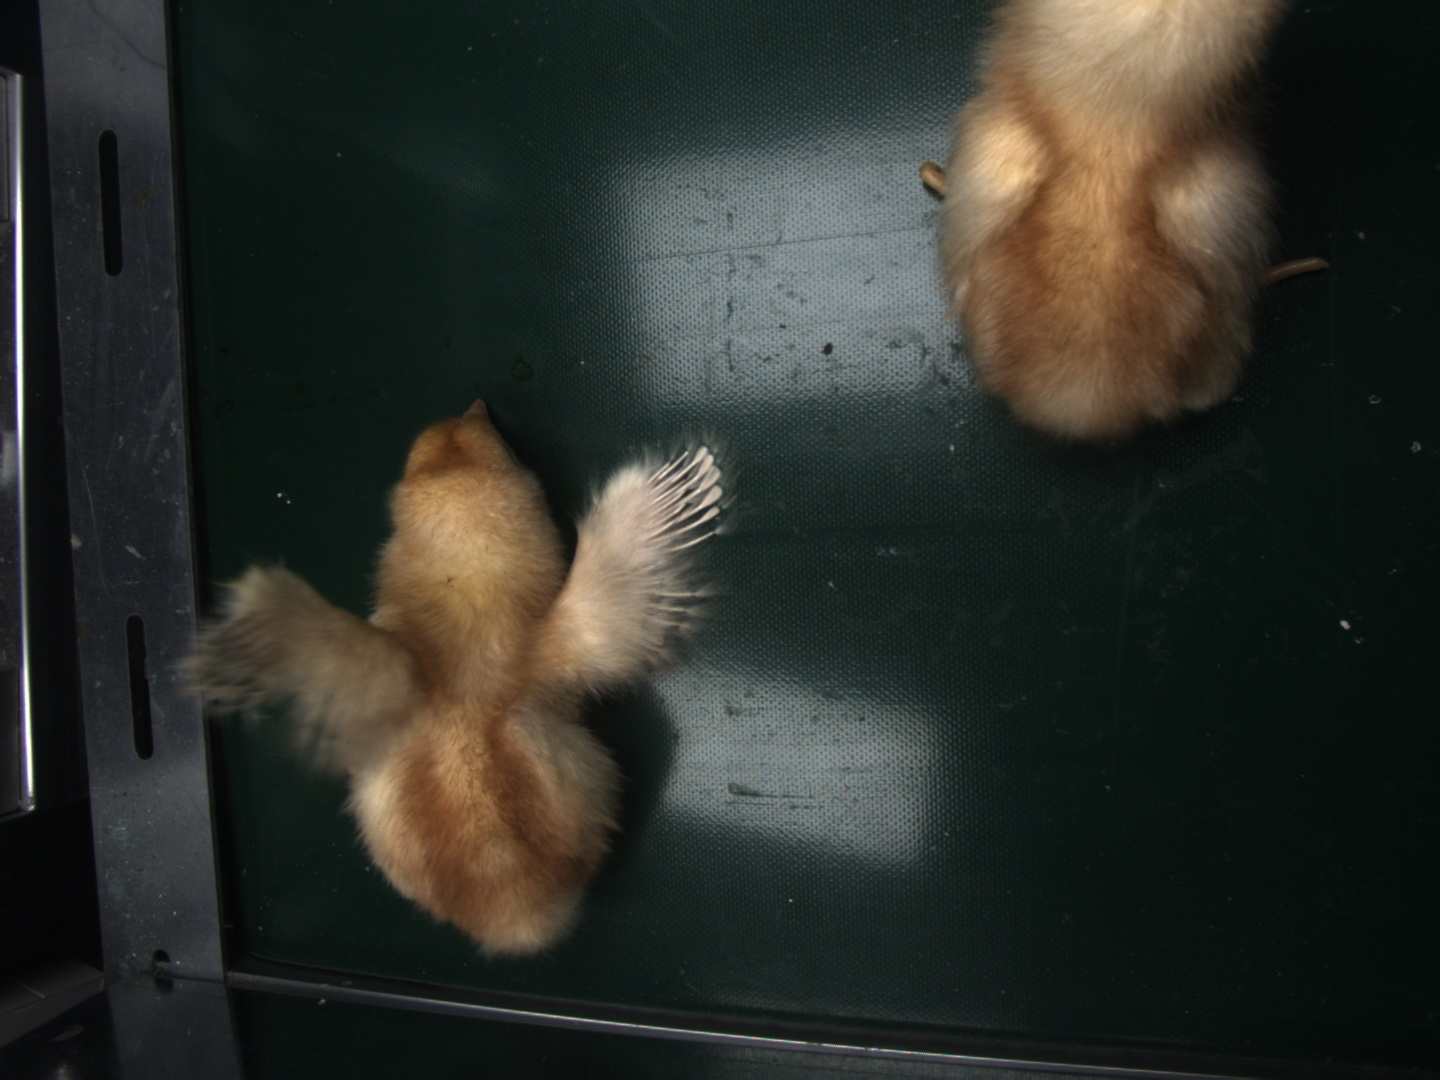female: (646, 445, 726, 549)
